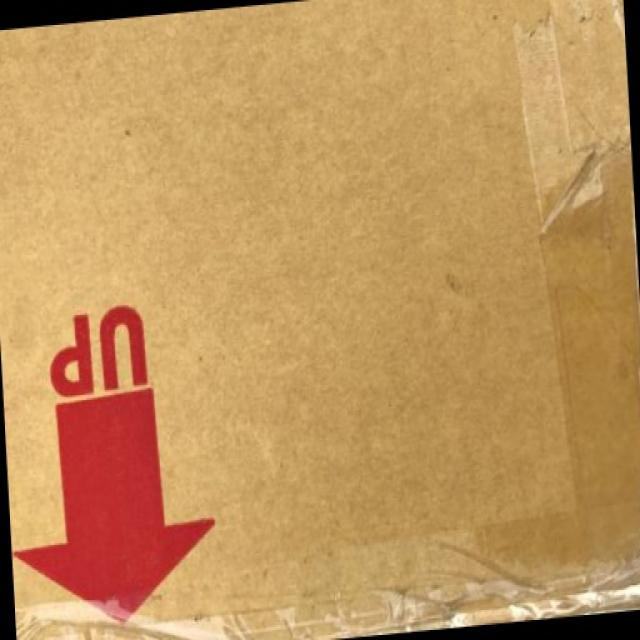carton: (5, 9, 640, 639)
